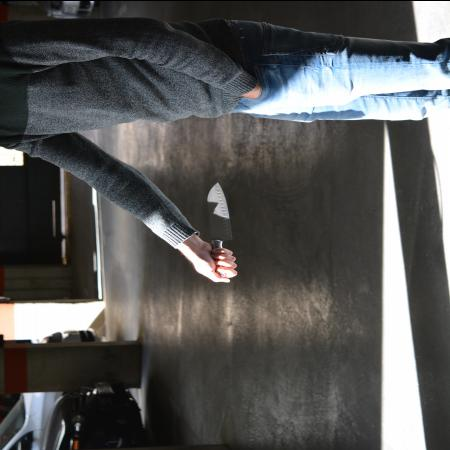long weapon: (197, 179, 239, 278)
